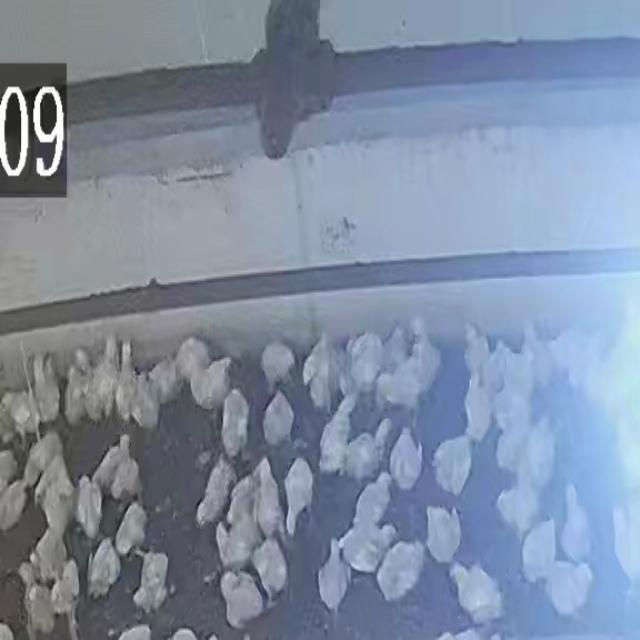chicken: (450, 560, 505, 626), (374, 539, 427, 602), (217, 566, 268, 631), (316, 397, 359, 472), (196, 451, 238, 527), (301, 330, 341, 409), (404, 326, 444, 405), (339, 515, 394, 572), (494, 477, 542, 541), (88, 338, 124, 422), (375, 356, 427, 412), (282, 454, 316, 537), (132, 547, 173, 615), (346, 329, 388, 395), (255, 456, 287, 541), (188, 352, 233, 412), (249, 536, 289, 602), (315, 538, 350, 613), (214, 516, 259, 574), (547, 564, 594, 619), (350, 474, 393, 534), (28, 349, 61, 427), (25, 430, 67, 491), (111, 340, 141, 425), (33, 524, 73, 587), (39, 474, 76, 542), (610, 501, 639, 587), (436, 431, 476, 492), (522, 417, 556, 488), (519, 518, 557, 578), (86, 535, 122, 598), (387, 428, 422, 491), (341, 430, 383, 482), (130, 372, 165, 432), (114, 499, 150, 557), (91, 440, 128, 496), (429, 506, 464, 565), (146, 356, 184, 410), (498, 409, 533, 467), (521, 323, 550, 393), (1, 389, 40, 441), (74, 476, 104, 542), (261, 391, 294, 450), (260, 339, 298, 390), (174, 336, 212, 387), (565, 487, 590, 560), (25, 582, 60, 634), (488, 373, 528, 418), (220, 390, 248, 454), (0, 477, 31, 531), (62, 368, 88, 428), (464, 374, 487, 440), (225, 477, 258, 523), (56, 558, 83, 613), (507, 345, 536, 396), (461, 324, 486, 375), (483, 345, 511, 383), (372, 415, 394, 455), (0, 450, 21, 491), (114, 623, 152, 639)
